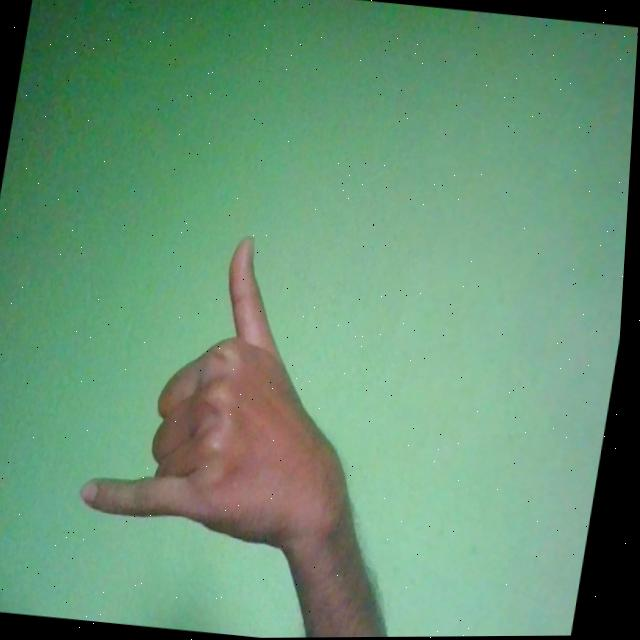Call Me: (78, 220, 403, 562)
